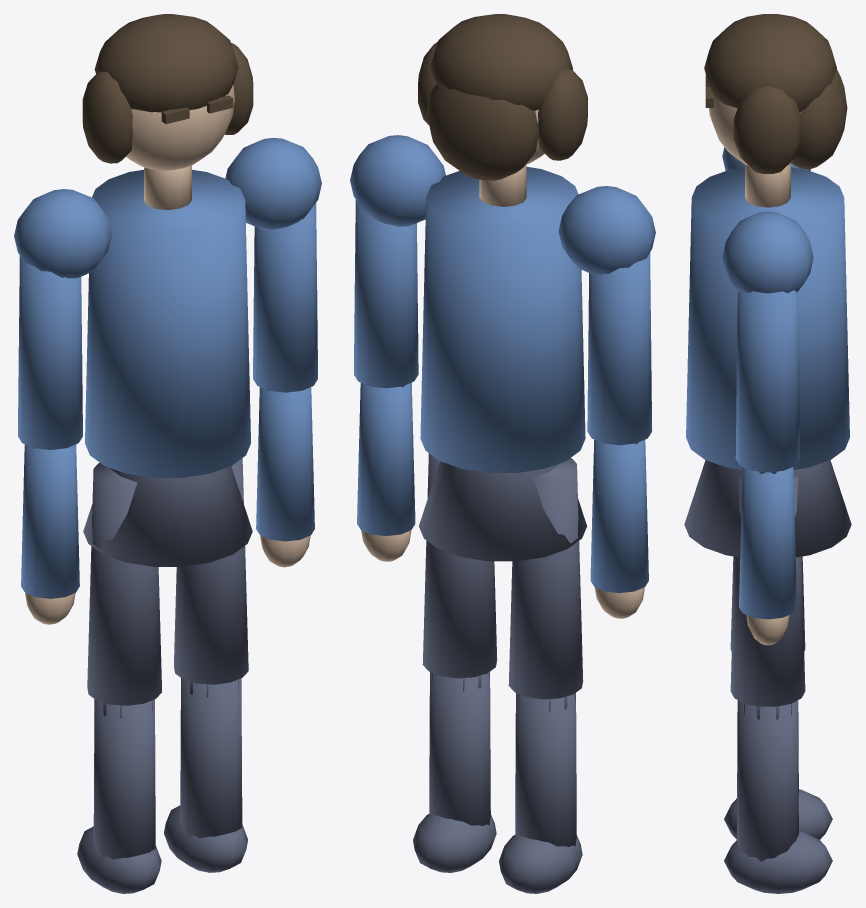
The model's file is avatar_doll.glb.
3 renders of one model, left to right at view 1: azimuth 30°, elevation 25°; view 2: azimuth 150°, elevation 25°; view 3: azimuth 270°, elevation 25°, orthographic.
Parts seen in each view (by area): view 1: jacket_torso, pant_thigh_l, jacket_ua_l, pant_hips, jacket_ua_r, hair_cap, pant_leg_l, pant_leg_r, pant_thigh_r, jacket_la_r, jacket_la_l, jacket_shoulder_l (+9 smaller); view 2: jacket_torso, pant_thigh_l, jacket_ua_l, pant_hips, jacket_ua_r, hair_cap, pant_thigh_r, pant_leg_r, pant_leg_l, jacket_la_l, jacket_la_r, hair_back (+9 smaller); view 3: jacket_torso, jacket_ua_r, hair_cap, pant_leg_r, pant_hips, jacket_la_r, pant_thigh_r, jacket_shoulder_r, hair_side_r, pant_shoe_r, hair_back, skin_neck (+3 smaller).
Boxes of the visible parts, left/top/right/bottom form: jacket_torso: left=85, top=169, right=250, bottom=477; pant_thigh_l: left=87, top=462, right=161, bottom=705; jacket_ua_l: left=18, top=256, right=82, bottom=449; pant_hips: left=83, top=466, right=252, bottom=566; jacket_ua_r: left=253, top=202, right=317, bottom=392; hair_cap: left=94, top=14, right=238, bottom=112; pant_leg_l: left=93, top=699, right=155, bottom=882; pant_leg_r: left=180, top=678, right=242, bottom=838; pant_thigh_r: left=174, top=458, right=248, bottom=684; jacket_la_r: left=256, top=387, right=314, bottom=541; jacket_la_l: left=21, top=444, right=79, bottom=598; jacket_shoulder_l: left=14, top=189, right=111, bottom=278; jacket_torso: left=420, top=167, right=585, bottom=472; pant_thigh_l: left=508, top=458, right=583, bottom=699; jacket_ua_l: left=587, top=252, right=652, bottom=445; pant_hips: left=419, top=461, right=586, bottom=561; jacket_ua_r: left=353, top=199, right=418, bottom=388; hair_cap: left=430, top=14, right=572, bottom=110; pant_thigh_r: left=422, top=453, right=497, bottom=678; pant_leg_r: left=429, top=672, right=490, bottom=848; pant_leg_l: left=515, top=693, right=576, bottom=869; jacket_la_l: left=590, top=439, right=648, bottom=592; jacket_la_r: left=357, top=382, right=415, bottom=535; hair_back: left=427, top=84, right=539, bottom=180; jacket_torso: left=686, top=167, right=849, bottom=469; jacket_ua_r: left=735, top=290, right=800, bottom=472; hair_cap: left=704, top=14, right=836, bottom=111; pant_leg_r: left=737, top=700, right=798, bottom=885; pant_hips: left=684, top=460, right=851, bottom=557; jacket_la_r: left=739, top=467, right=796, bottom=619; pant_thigh_r: left=730, top=476, right=805, bottom=706; jacket_shoulder_r: left=722, top=211, right=813, bottom=293; hair_side_r: left=733, top=86, right=802, bottom=173; pant_shoe_r: left=724, top=831, right=832, bottom=893; hair_back: left=791, top=69, right=847, bottom=168; skin_neck: left=745, top=164, right=790, bottom=207.
Size of the model in its own units: 0.6508 by 1.8 by 0.3224.
